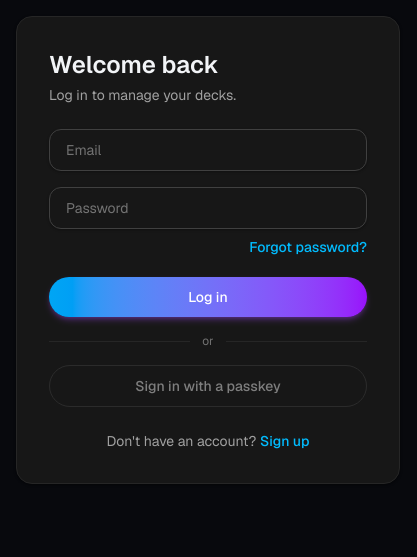
it: LoginPage passkey sign-in › shows passkey wording for a 401 and does not create a session
In the field with placeholder "Email": (208, 150) [49,129,367,171], type "nobody@example.com"
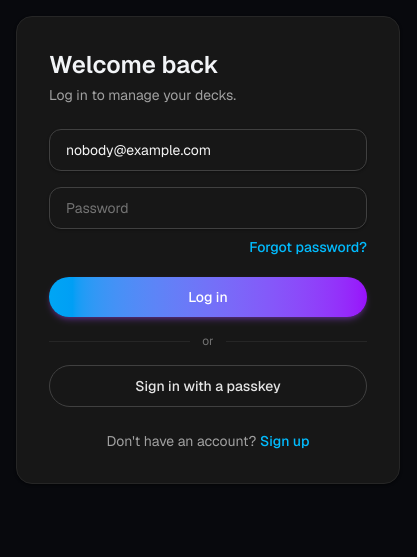
Click the button "Sign in with a passkey": (208, 386) [49,365,367,407]
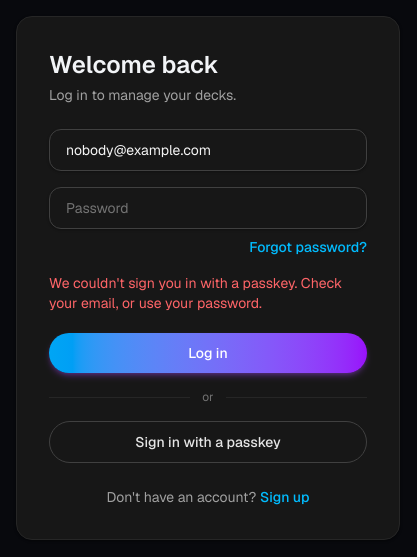
Now the text "couldn't sign you in with a passkey" is shown, box [49,274,342,312]
